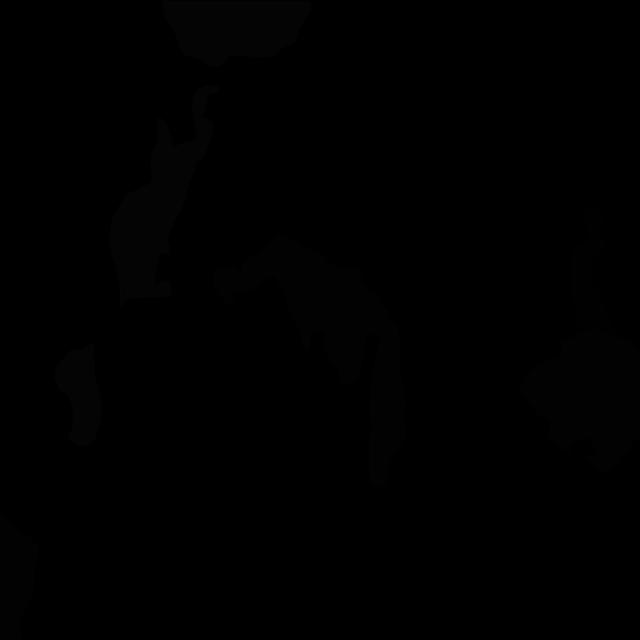cardboard: (237, 235, 391, 352), (518, 329, 640, 473), (323, 303, 406, 487), (0, 509, 40, 640), (212, 266, 240, 306)
rigid_plastic: (571, 204, 617, 336)
soft_plastic: (110, 85, 219, 307), (162, 1, 312, 67), (54, 342, 102, 447), (123, 234, 172, 306)
